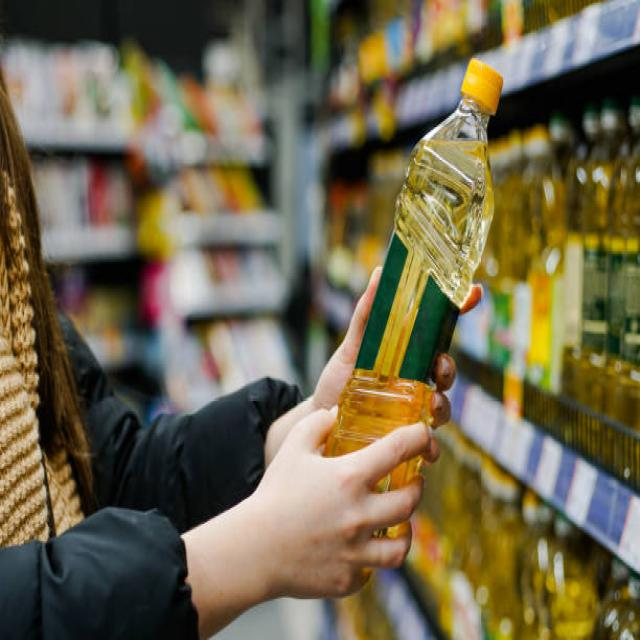article: (325, 60, 501, 453)
hands: (184, 405, 434, 635), (267, 268, 381, 464), (430, 356, 455, 425), (462, 284, 481, 312)
